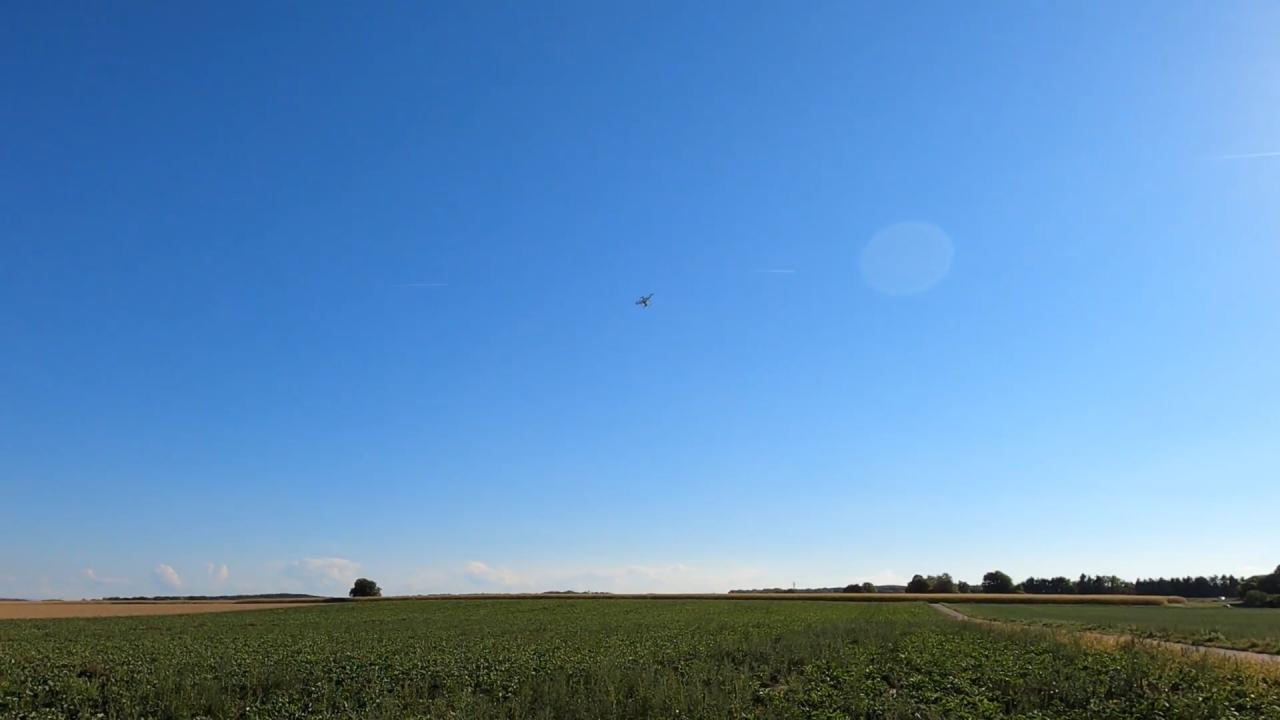Drone: (630, 286, 660, 314)
